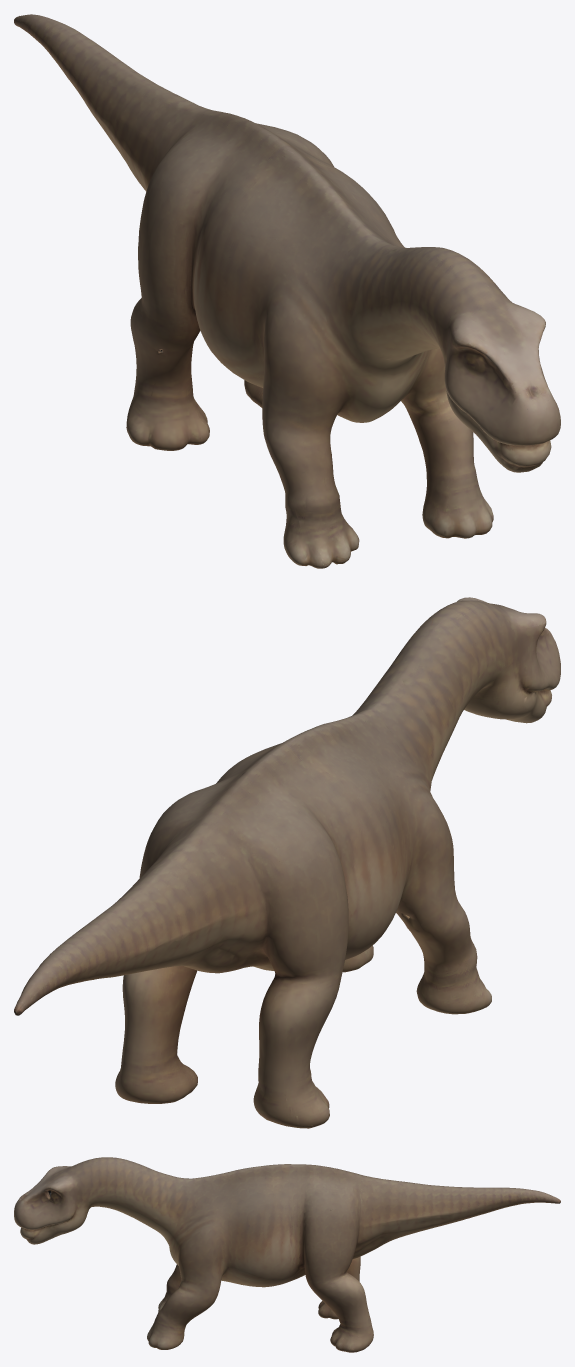
The picture shows the model from 3 angles, top to bottom: view 1: azimuth 30°, elevation 25°; view 2: azimuth 150°, elevation 25°; view 3: azimuth 270°, elevation 25°; orthographic projection. The views are drawn at different scales.
Visible parts, largest first — view 1: world; view 2: world; view 3: world.
Boxes of the visible parts, box(x1,y1,x2,y2) form: world: box(14, 14, 560, 568); world: box(14, 597, 560, 1128); world: box(14, 1157, 560, 1352).
Bounding box in the file's own units: 3.24 × 5.2 × 15.
1 material, 1 textured.
